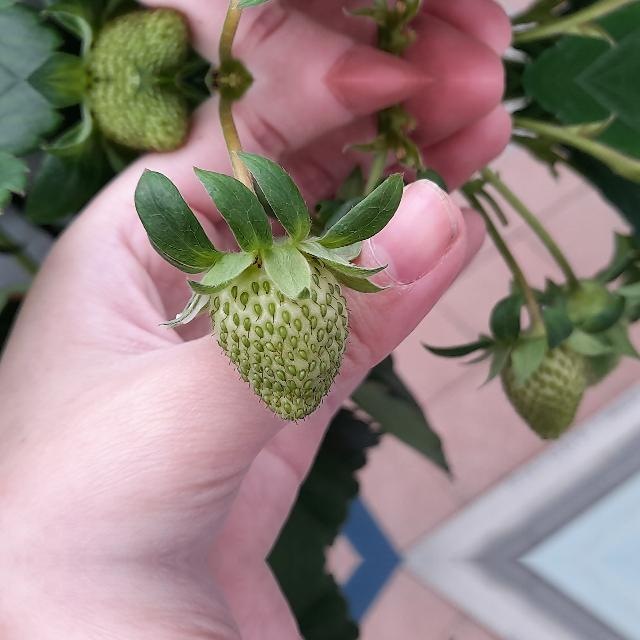Health_25: (208, 252, 348, 420)
